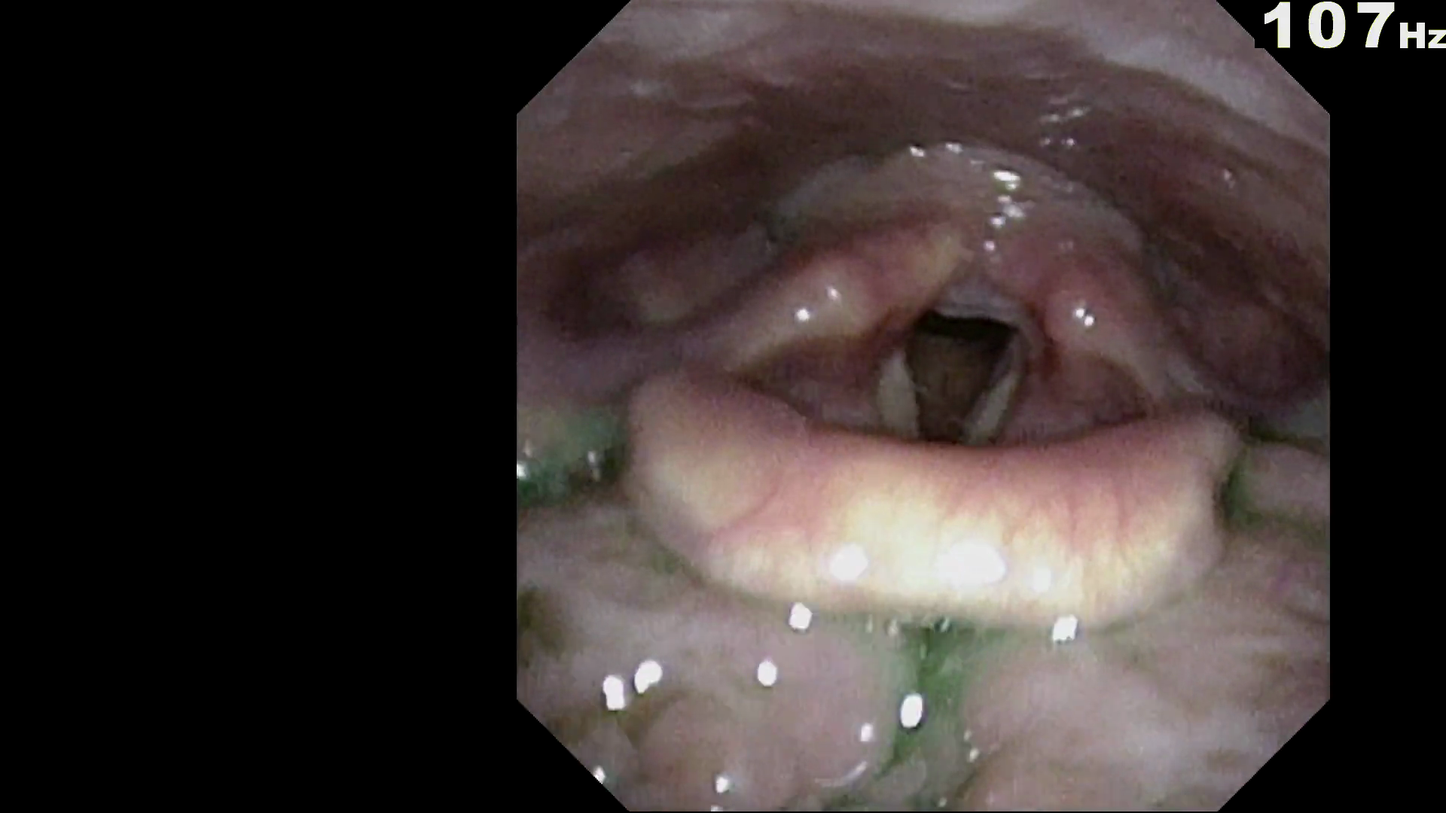epiglottis: (604, 367, 1272, 622)
trachea: (906, 292, 1024, 446)
